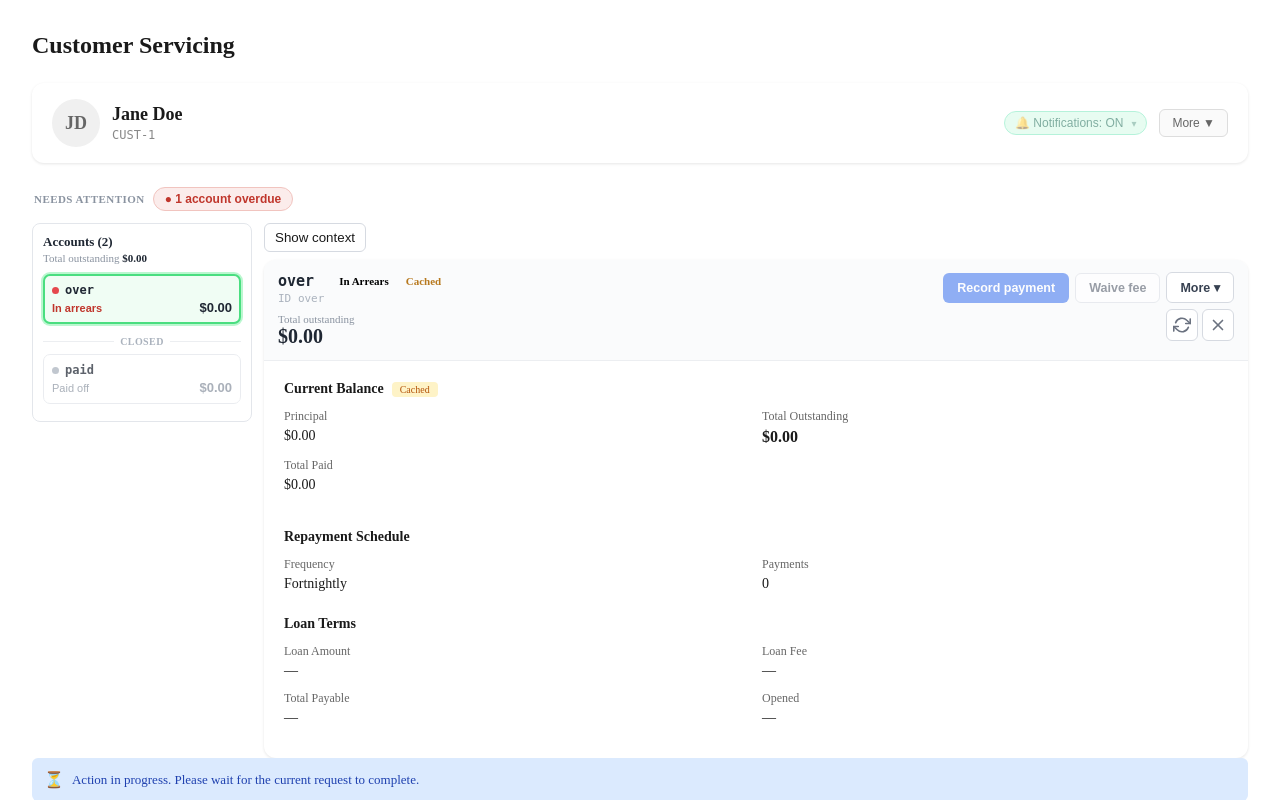
ServicingView context slide-over (≤1440px) › the close (×) button closes it and returns focus to the toggle
The image size is (1280, 800).
Click the button with test id "context-toggle": x=315, y=238 [264, 223, 366, 252]
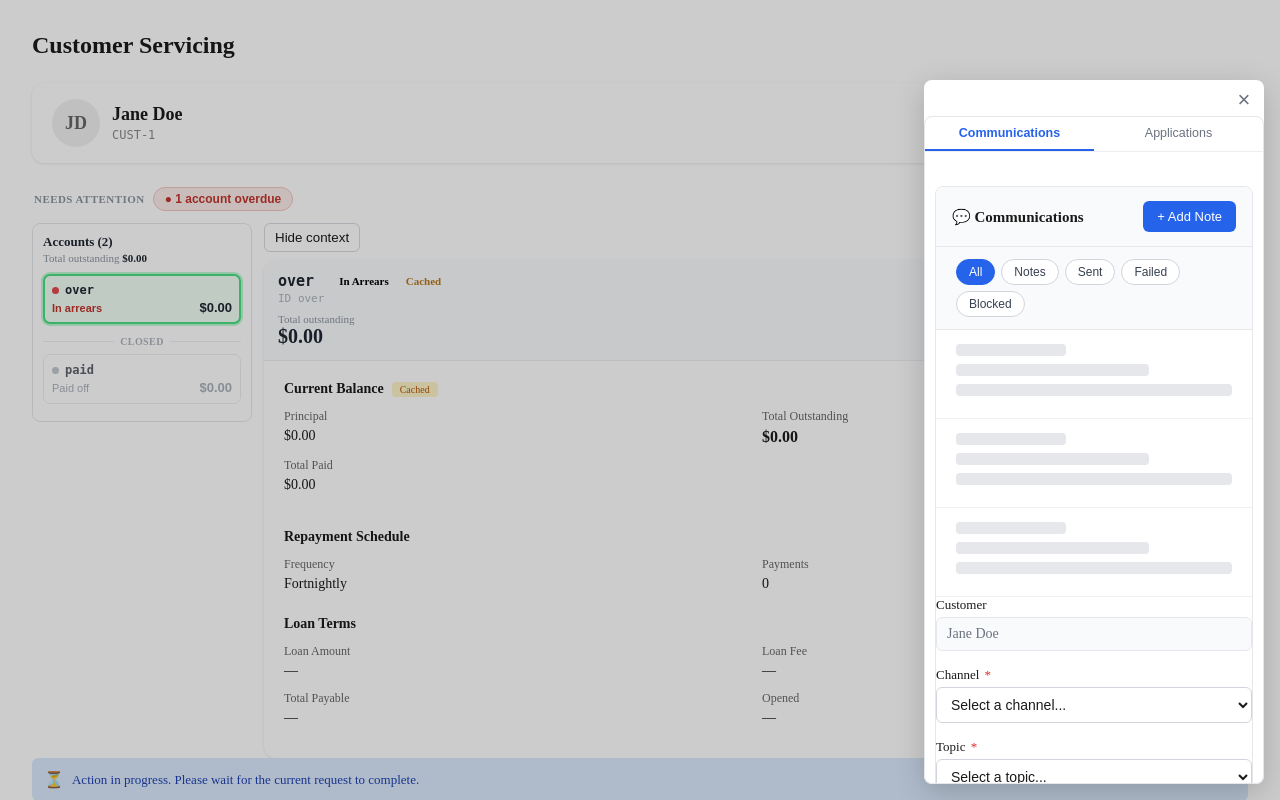
Expected: the button with test id "context-toggle" is expanded, [264, 223, 360, 252]
Expected: the element with test id "context-backdrop" is shown
Click the button with test id "context-close": x=1244, y=100 [1228, 84, 1260, 116]
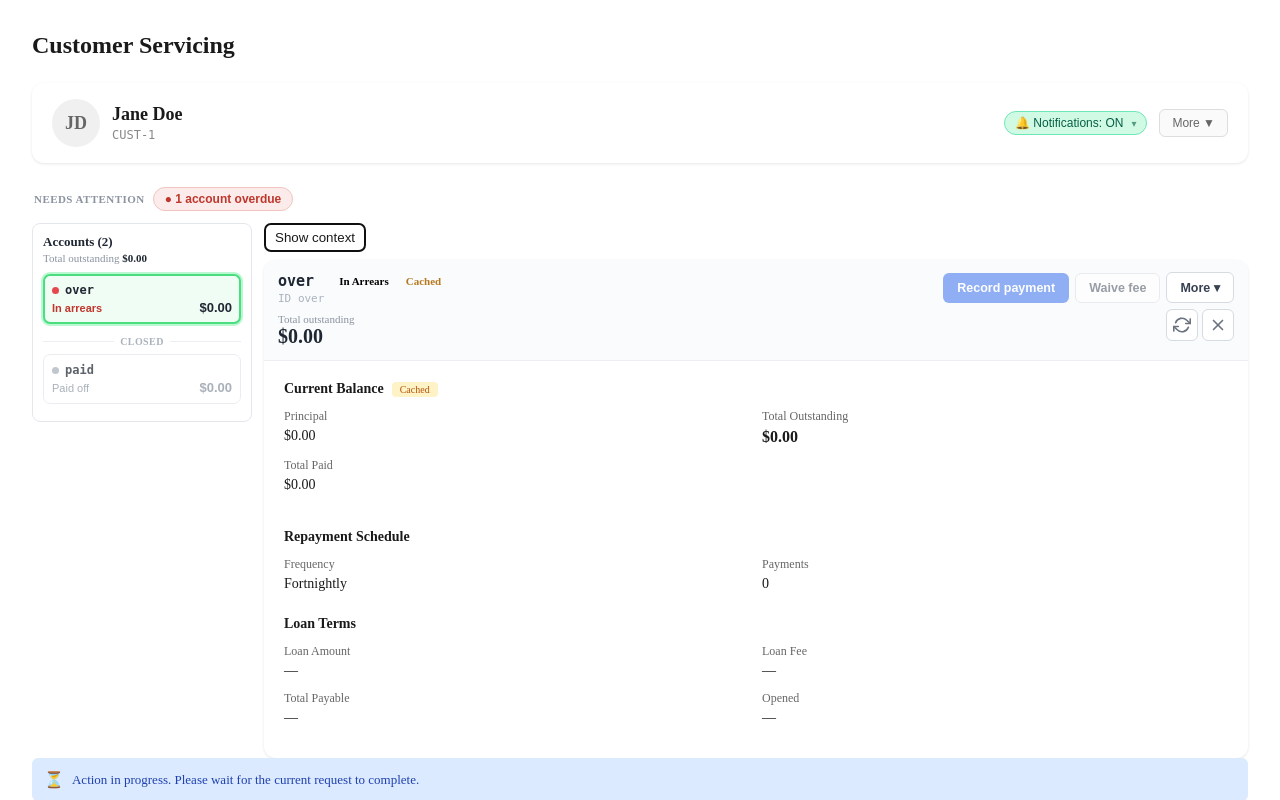
Expected: the button with test id "context-toggle" is collapsed, [264, 223, 366, 252]
Expected: the element with test id "context-backdrop" is gone
